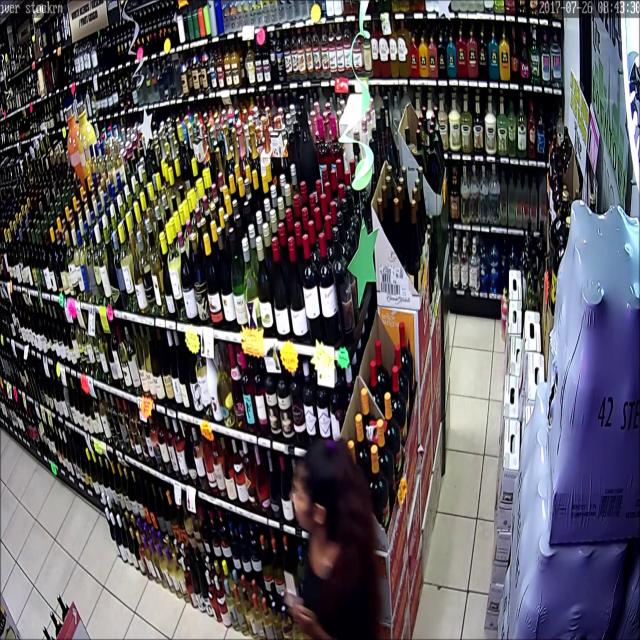normal: (264, 354, 374, 640)
